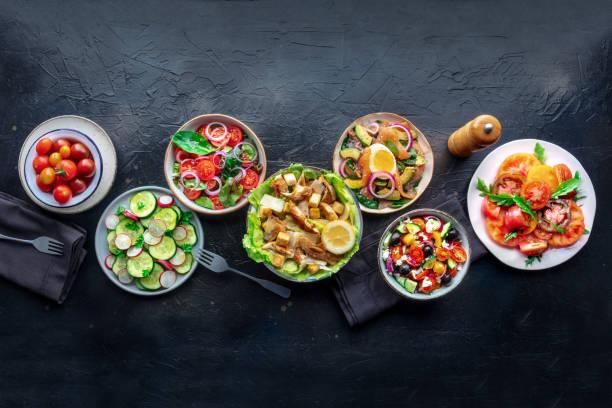Braised Crucian Carp: (467, 139, 597, 270), (244, 165, 359, 283), (94, 186, 202, 295), (332, 112, 434, 213), (164, 114, 266, 215), (16, 115, 117, 214), (377, 208, 470, 300)
